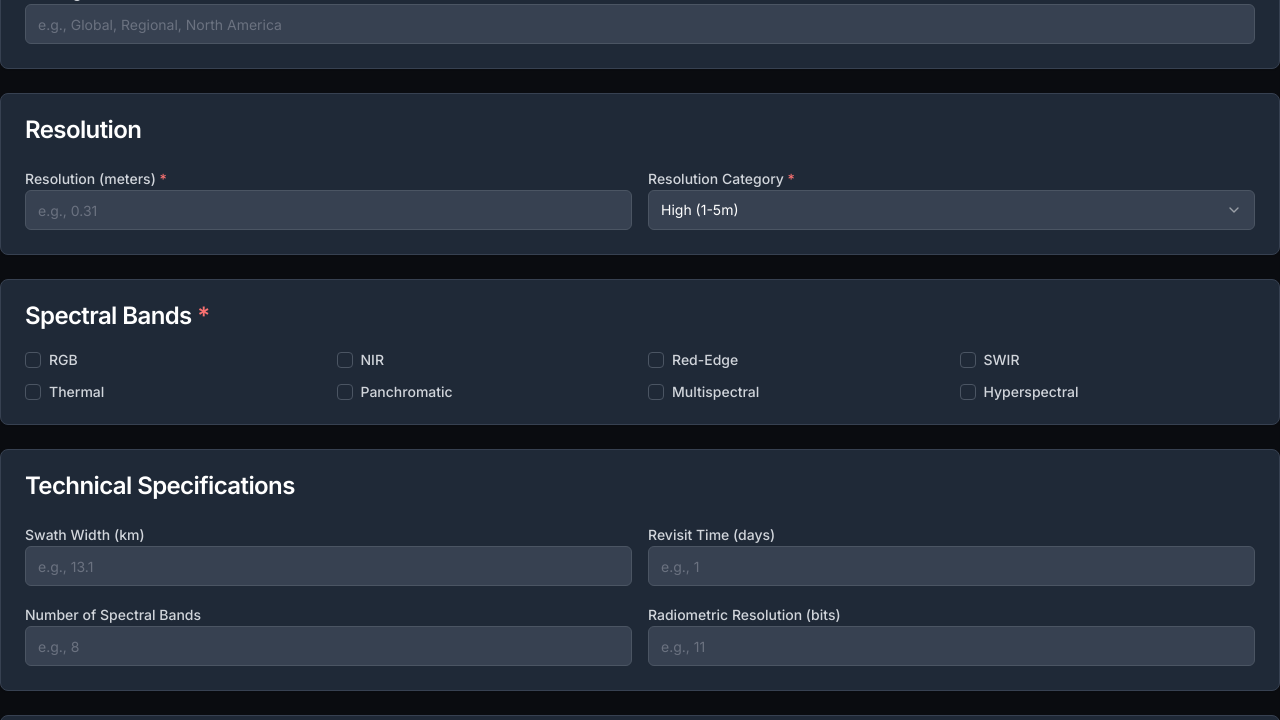
it: SatelliteProductForm › allows toggling bands on and off
(page scrolled)
Step 1. Click the checkbox named "RGB" next to "RGB" → (33, 360), box [25, 352, 41, 368]
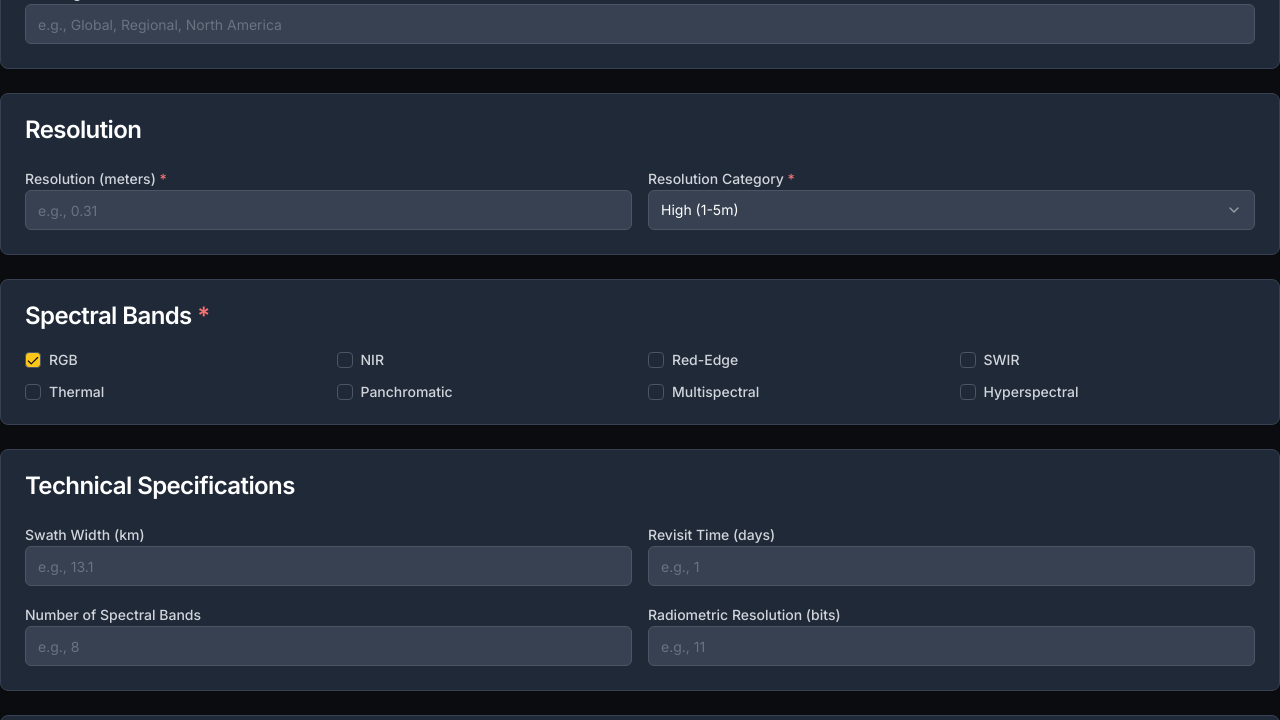
Check: the checkbox named "RGB" next to "RGB" is checked
Step 2. Click the checkbox named "RGB" next to "RGB" → (33, 360), box [25, 352, 41, 368]
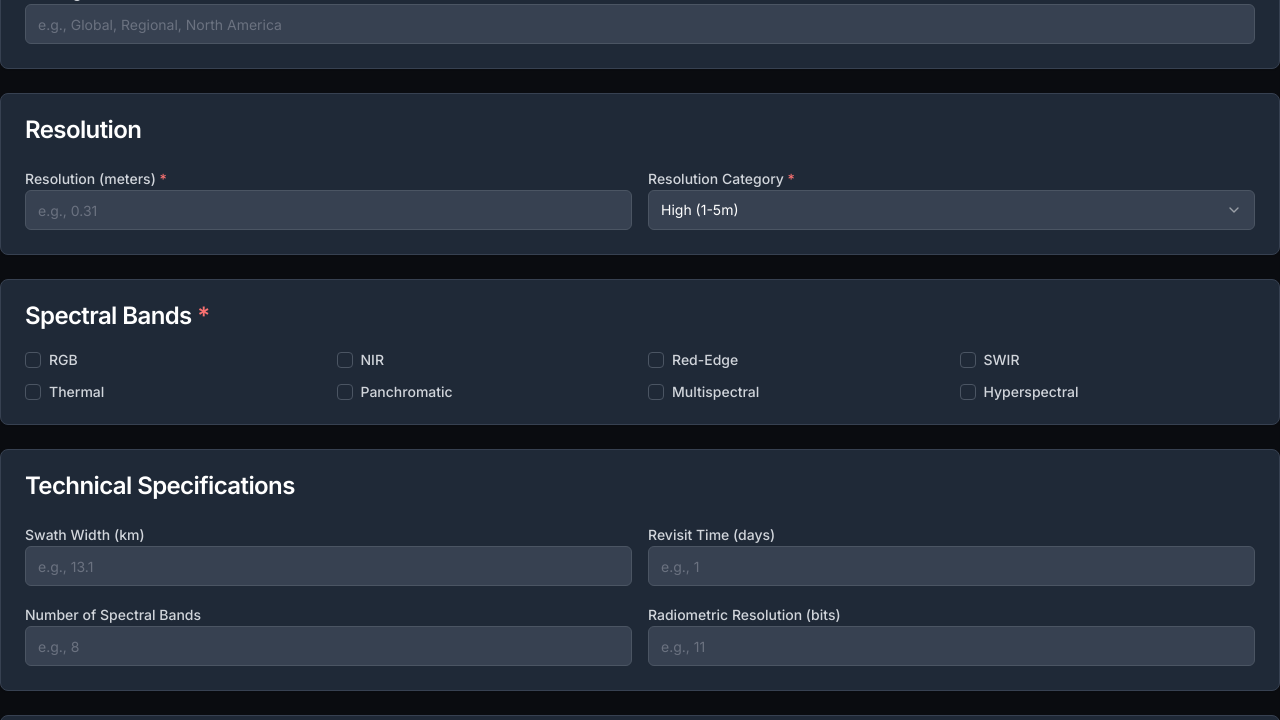
Check: the checkbox named "RGB" next to "RGB" is not checked, box [25, 352, 41, 368]
